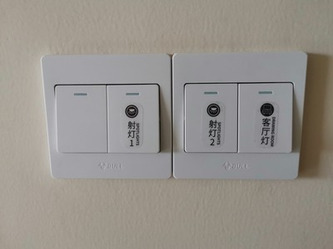switch: (177, 79, 241, 157), (232, 78, 296, 156), (102, 79, 163, 157), (50, 79, 110, 157)
